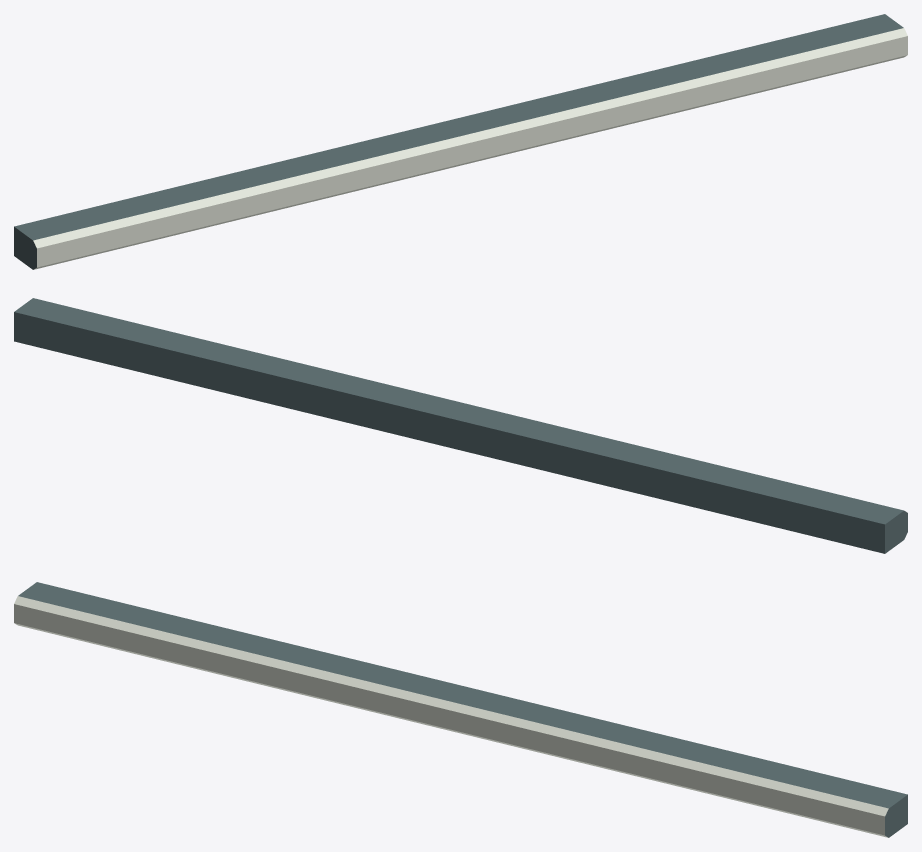
File: tabletop-north.glb
3 views of the same model, one above another, from view 1: azimuth 30°, elevation 25°; view 2: azimuth 150°, elevation 25°; view 3: azimuth 330°, elevation 25° (orthographic).
Visible parts, largest first — view 1: Rail_north; view 2: Rail_north; view 3: Rail_north.
Part boxes in pixels (x1,y1,x2,y2): Rail_north: (14,14,907,269); Rail_north: (14,298,907,553); Rail_north: (14,582,907,837).
Bounding box in the file's own units: 10.52 × 0.34 × 0.48.
